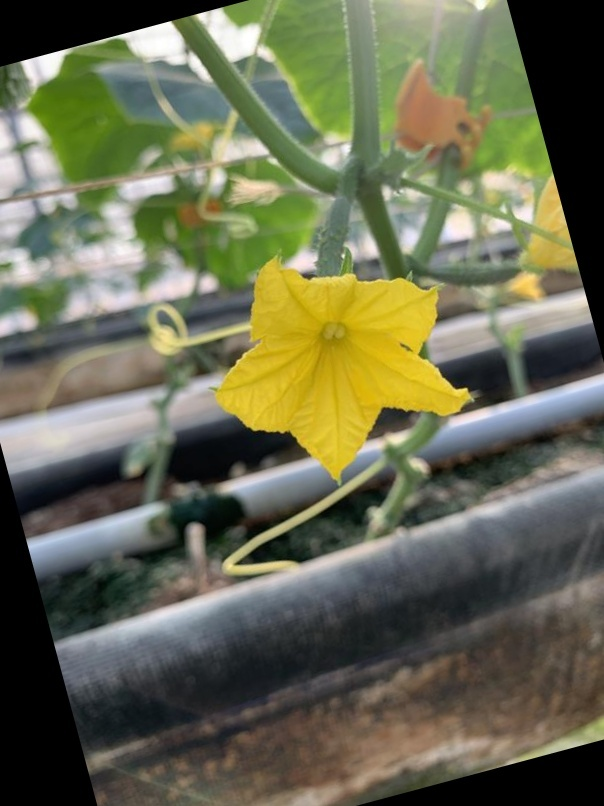flowering: (171, 179, 471, 483)
